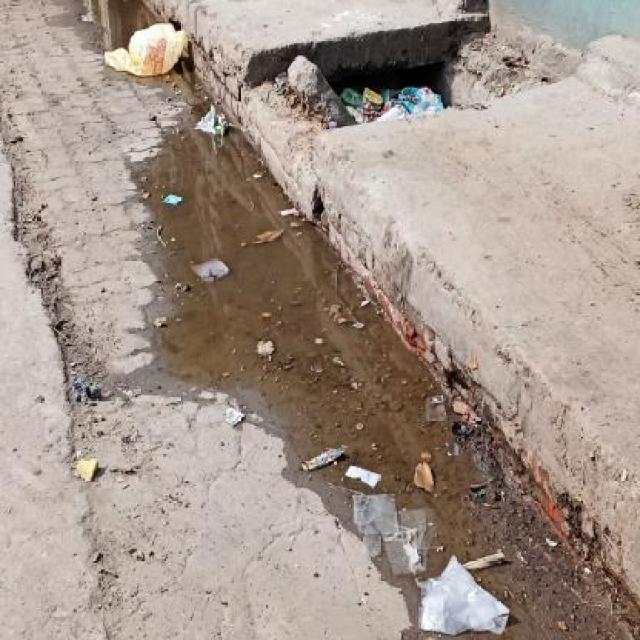garbage: (295, 427, 517, 640), (266, 57, 464, 128), (106, 12, 190, 76), (190, 251, 239, 284), (159, 188, 186, 223)
